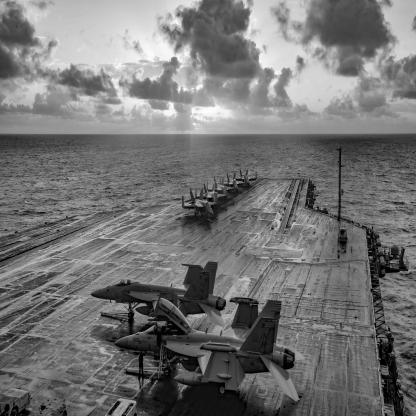F18: (115, 297, 306, 403), (91, 262, 238, 328), (183, 188, 219, 220), (196, 182, 228, 210), (208, 177, 236, 201), (221, 173, 246, 194), (235, 169, 258, 189)
